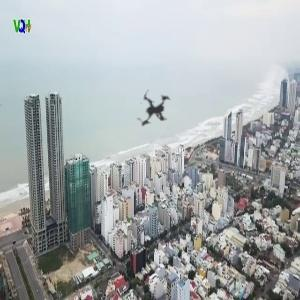drone: (98, 54, 209, 165)
